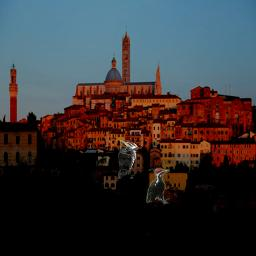Woodpecker: (146, 166, 170, 204), (118, 140, 140, 180)
